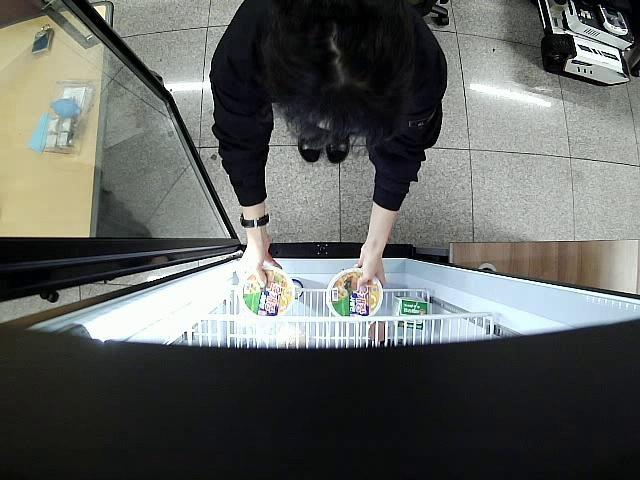09_yukGaeJang: (325, 268, 384, 320), (240, 264, 296, 317)
